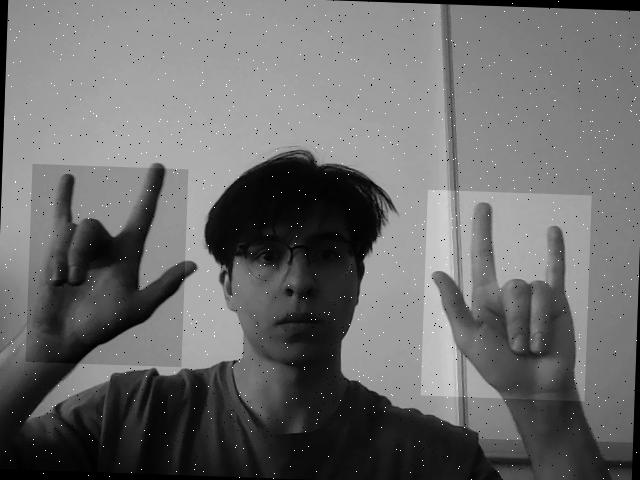I_Love_You: (420, 190, 592, 402), (25, 163, 188, 368)
